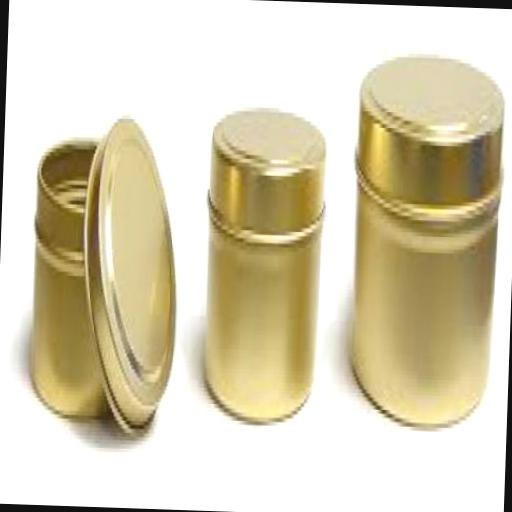metal: (343, 43, 508, 426), (198, 106, 328, 424), (76, 109, 182, 430), (26, 132, 138, 420)
